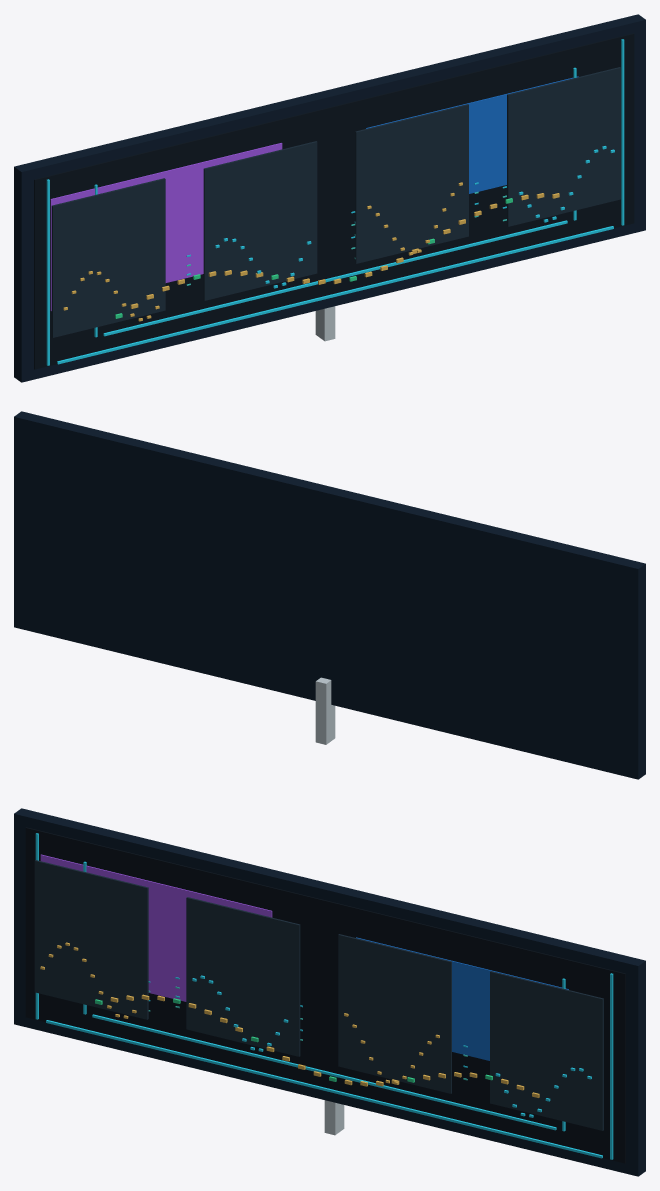
The model's file is 63_L79_Holographic3DStackSCADA.fbx.
The picture shows the model from 3 angles, top to bottom: view 1: azimuth 30°, elevation 25°; view 2: azimuth 150°, elevation 25°; view 3: azimuth 330°, elevation 25°; orthographic projection.
Parts seen in each view (by area): view 1: Holographic3DStackSCADA, Holographic3DStackSCADA_Part_0110, Holographic3DStackSCADA_Part_0111, Holographic3DStackSCADA_Part_0162; view 2: Holographic3DStackSCADA_Part_0108, Holographic3DStackSCADA, Holographic3DStackSCADA_Part_0163; view 3: Holographic3DStackSCADA, Holographic3DStackSCADA_Part_0110, Holographic3DStackSCADA_Part_0109, Holographic3DStackSCADA_Part_0111, Holographic3DStackSCADA_Part_0162.
Part boxes in pixels (bbox=[...]): Holographic3DStackSCADA: bbox=[14, 14, 645, 382]; Holographic3DStackSCADA_Part_0110: bbox=[165, 172, 203, 272]; Holographic3DStackSCADA_Part_0111: bbox=[469, 102, 506, 185]; Holographic3DStackSCADA_Part_0162: bbox=[103, 220, 567, 336]; Holographic3DStackSCADA_Part_0108: bbox=[66, 448, 586, 747]; Holographic3DStackSCADA: bbox=[14, 411, 645, 779]; Holographic3DStackSCADA_Part_0163: bbox=[315, 677, 335, 722]; Holographic3DStackSCADA: bbox=[14, 808, 645, 1176]; Holographic3DStackSCADA_Part_0110: bbox=[148, 891, 186, 991]; Holographic3DStackSCADA_Part_0109: bbox=[75, 908, 575, 1133]; Holographic3DStackSCADA_Part_0111: bbox=[452, 969, 489, 1052]; Holographic3DStackSCADA_Part_0162: bbox=[92, 1014, 556, 1130].
Size of the model in its own units: 720 by 272 by 42.
